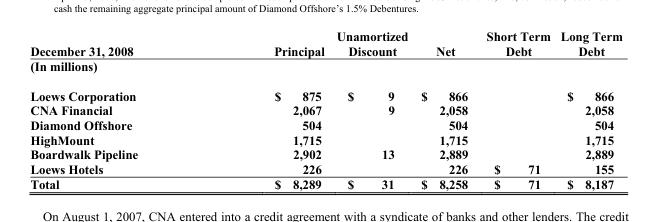table: (29, 28, 621, 191)
table column: (29, 28, 205, 191), (205, 28, 329, 191), (329, 28, 413, 191), (476, 28, 554, 191), (554, 28, 621, 191), (413, 28, 476, 191)
table column header: (29, 28, 621, 58)
table projected row header: (29, 58, 621, 80)
table row: (29, 28, 621, 58), (29, 58, 621, 80), (29, 80, 621, 102), (29, 102, 621, 117), (29, 117, 621, 132), (29, 146, 621, 161), (29, 161, 621, 176), (29, 176, 621, 191), (29, 132, 621, 146)
